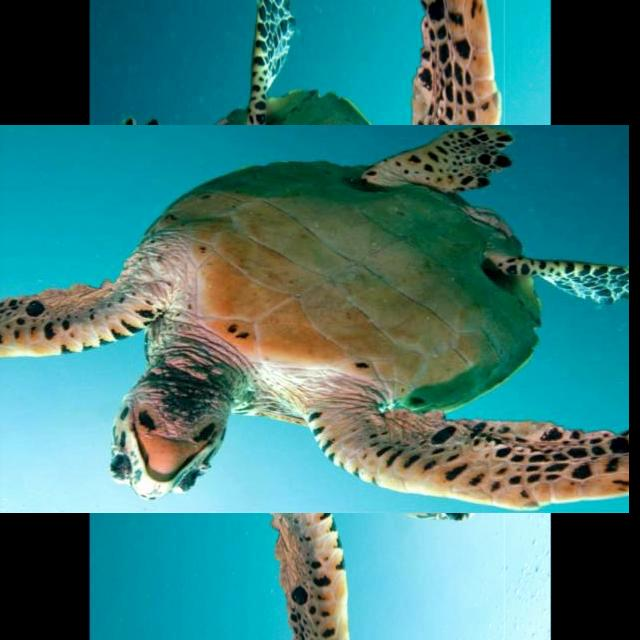Sea turtle: (53, 63, 567, 576)
